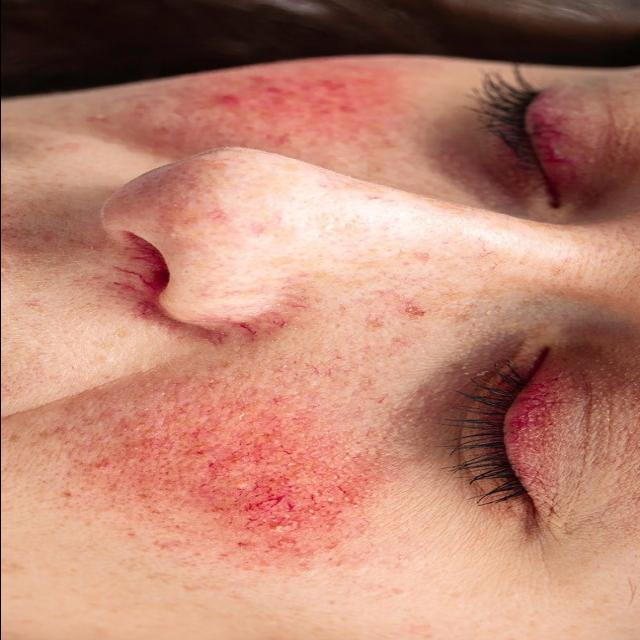Rosacea: (66, 403, 356, 588), (216, 71, 378, 139)
